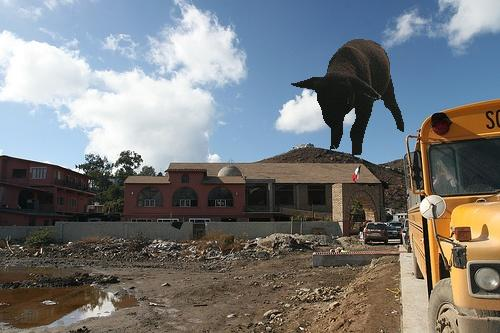tampered: (292, 40, 404, 155)
